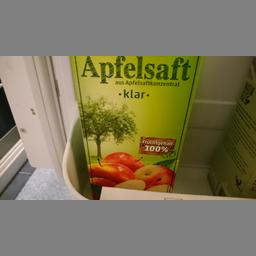juice: (68, 54, 202, 196)
